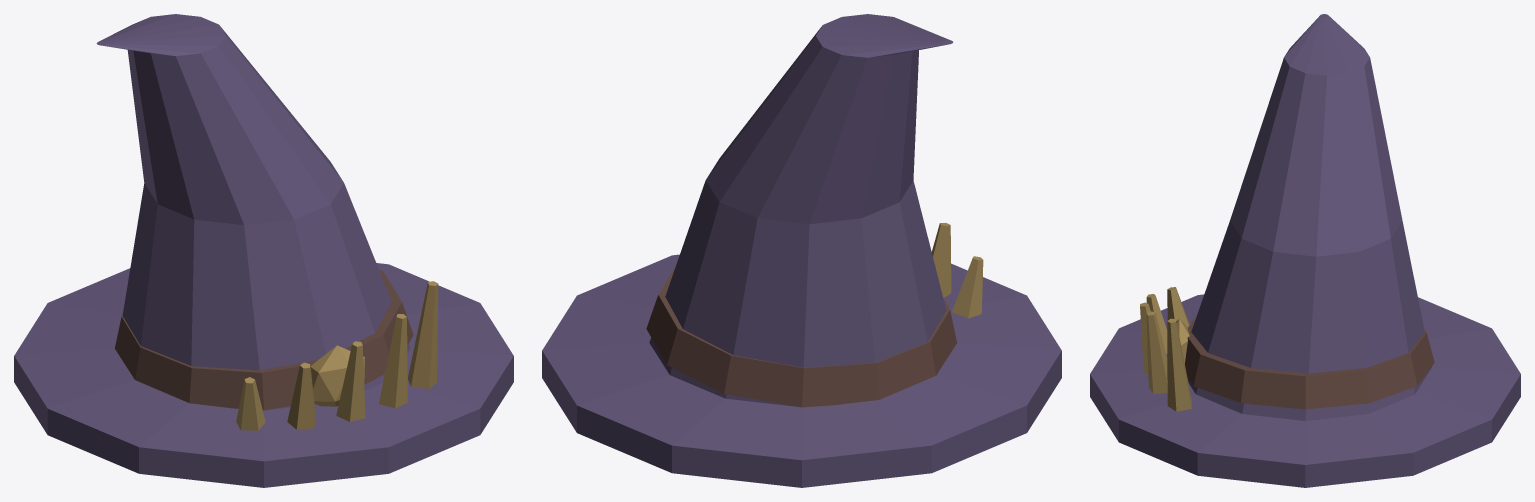
File: gear_helm.glb
3 views of the same model, side by side, from view 1: azimuth 30°, elevation 25°; view 2: azimuth 150°, elevation 25°; view 3: azimuth 270°, elevation 25° (orthographic). The views are drawn at different scales.
Visible parts, largest first — view 1: Bent travelling hat, Hat ribbon, Crown filigree.004, Crown filigree.003, Hat brooch, Crown filigree.002, Crown filigree.001, Crown filigree; view 2: Bent travelling hat, Hat ribbon, Crown filigree, Crown filigree.001; view 3: Bent travelling hat, Hat ribbon, Crown filigree.004, Crown filigree.003, Crown filigree, Crown filigree.002.
Boxes of the visible parts, x1=… form: Bent travelling hat: x1=14, y1=14, x2=513, y2=487; Hat ribbon: x1=115, y1=269, x2=413, y2=410; Crown filigree.004: x1=407, y1=281, x2=438, y2=388; Crown filigree.003: x1=379, y1=314, x2=407, y2=408; Hat brooch: x1=310, y1=345, x2=364, y2=406; Crown filigree.002: x1=336, y1=341, x2=365, y2=421; Crown filigree.001: x1=287, y1=362, x2=315, y2=429; Crown filigree: x1=236, y1=377, x2=265, y2=430; Bent travelling hat: x1=542, y1=14, x2=1061, y2=487; Hat ribbon: x1=646, y1=266, x2=956, y2=407; Crown filigree: x1=952, y1=256, x2=983, y2=318; Crown filigree.001: x1=931, y1=222, x2=951, y2=297; Bent travelling hat: x1=1090, y1=14, x2=1520, y2=487; Hat ribbon: x1=1185, y1=316, x2=1434, y2=409; Crown filigree.004: x1=1167, y1=318, x2=1191, y2=411; Crown filigree.003: x1=1146, y1=311, x2=1167, y2=393; Crown filigree: x1=1167, y1=287, x2=1189, y2=327; Crown filigree.002: x1=1140, y1=302, x2=1150, y2=373.
Bounding box in the file's own units: 0.8 × 0.65 × 0.8.
